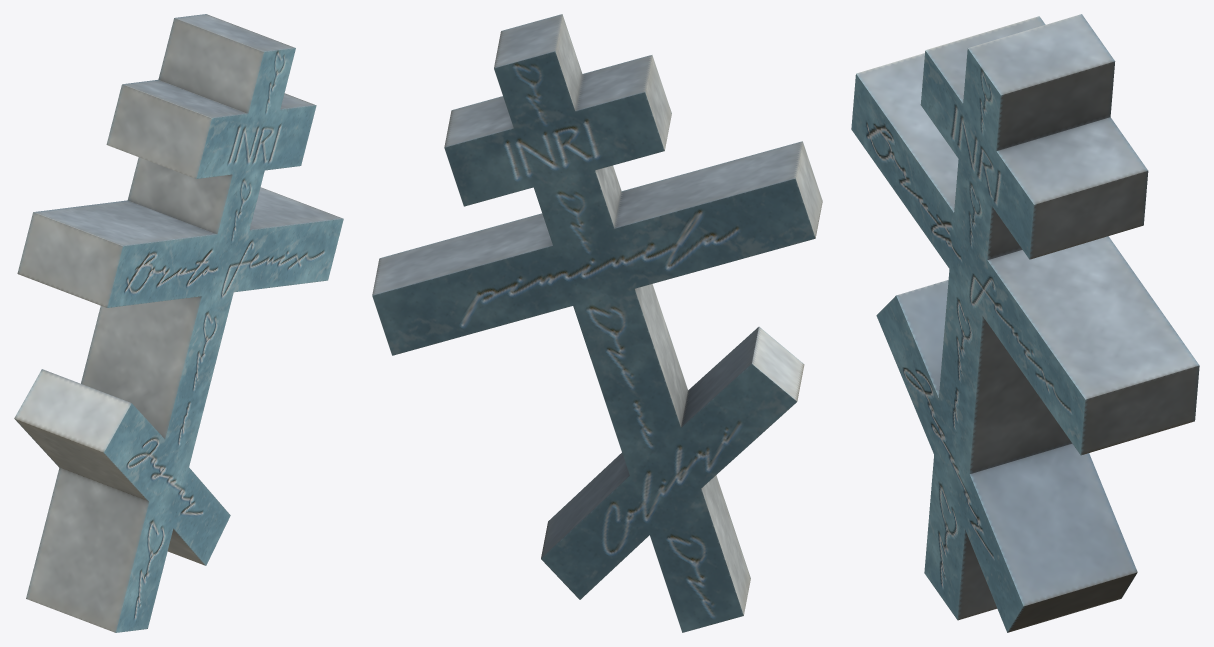
3 views of the same model, side by side, from view 1: azimuth 30°, elevation 25°; view 2: azimuth 150°, elevation 25°; view 3: azimuth 270°, elevation 25° (orthographic). The views are drawn at different scales.
Parts seen in each view (by area): view 1: Cruz_Orto_Cube.011; view 2: Cruz_Orto_Cube.011; view 3: Cruz_Orto_Cube.011.
Part boxes in pixels (left/top/right/bottom): Cruz_Orto_Cube.011: left=14, top=14, right=343, bottom=632; Cruz_Orto_Cube.011: left=372, top=14, right=822, bottom=632; Cruz_Orto_Cube.011: left=851, top=14, right=1199, bottom=632.
Size of the model in its own units: 1.92 by 2.69 by 1.3.
